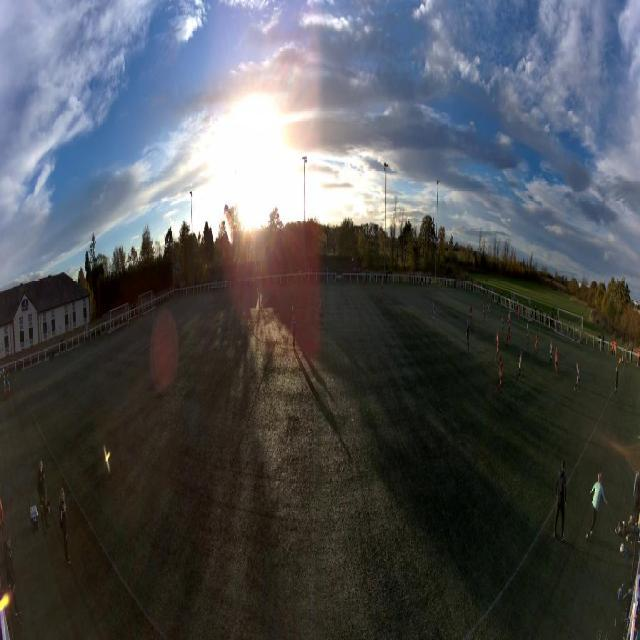player: (574, 364, 581, 393), (498, 355, 503, 394), (291, 316, 297, 347), (517, 353, 523, 381), (319, 299, 324, 328), (555, 346, 559, 378), (495, 330, 499, 361), (466, 321, 470, 350), (469, 304, 473, 328), (534, 332, 538, 356), (505, 332, 511, 347), (152, 311, 156, 333), (550, 339, 553, 366), (526, 322, 529, 348), (344, 288, 348, 304), (433, 303, 436, 324), (501, 312, 504, 332), (291, 305, 295, 319), (380, 286, 383, 302), (508, 311, 510, 332), (483, 302, 485, 321), (489, 303, 491, 321), (518, 306, 520, 322)
